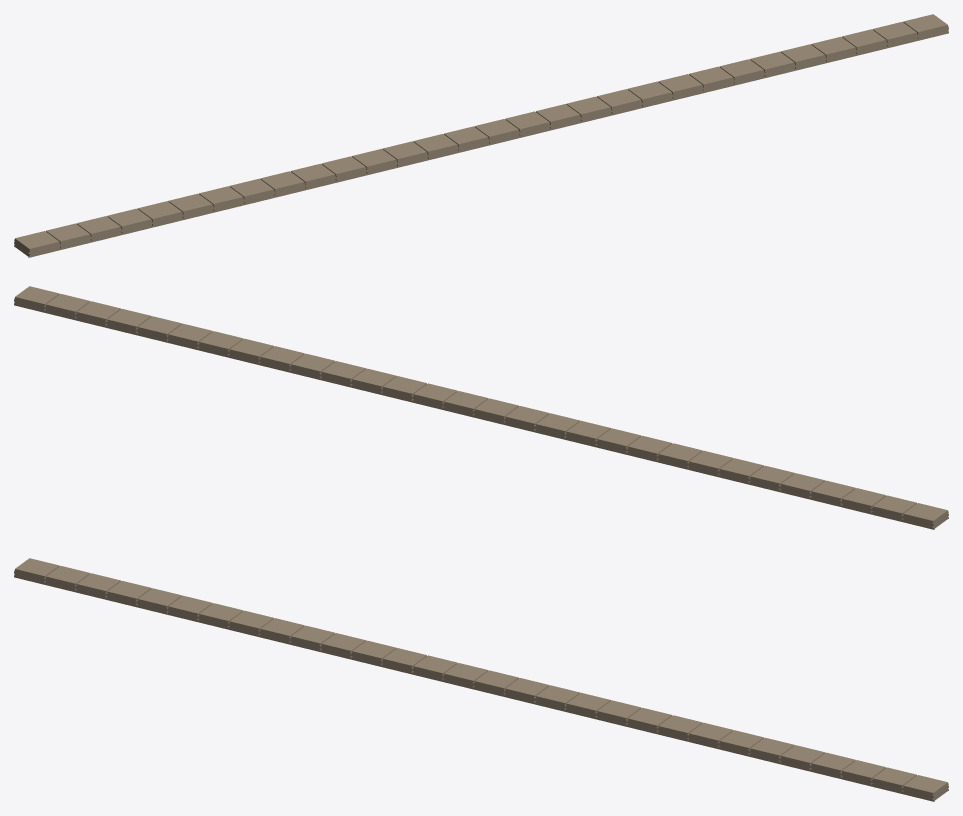
File: north_pier__crib_1835.glb
The picture shows the model from 3 angles, top to bottom: view 1: azimuth 30°, elevation 25°; view 2: azimuth 150°, elevation 25°; view 3: azimuth 330°, elevation 25°; orthographic projection.
Visible parts, largest first — view 1: north_pier__crib_1835; view 2: north_pier__crib_1835; view 3: north_pier__crib_1835.
Part boxes in pixels (x1,y1,x2,y2): north_pier__crib_1835: [14, 14, 948, 257]; north_pier__crib_1835: [14, 286, 948, 529]; north_pier__crib_1835: [14, 558, 948, 801].
Size of the model in its own units: 275 by 2.47 by 8.1.
